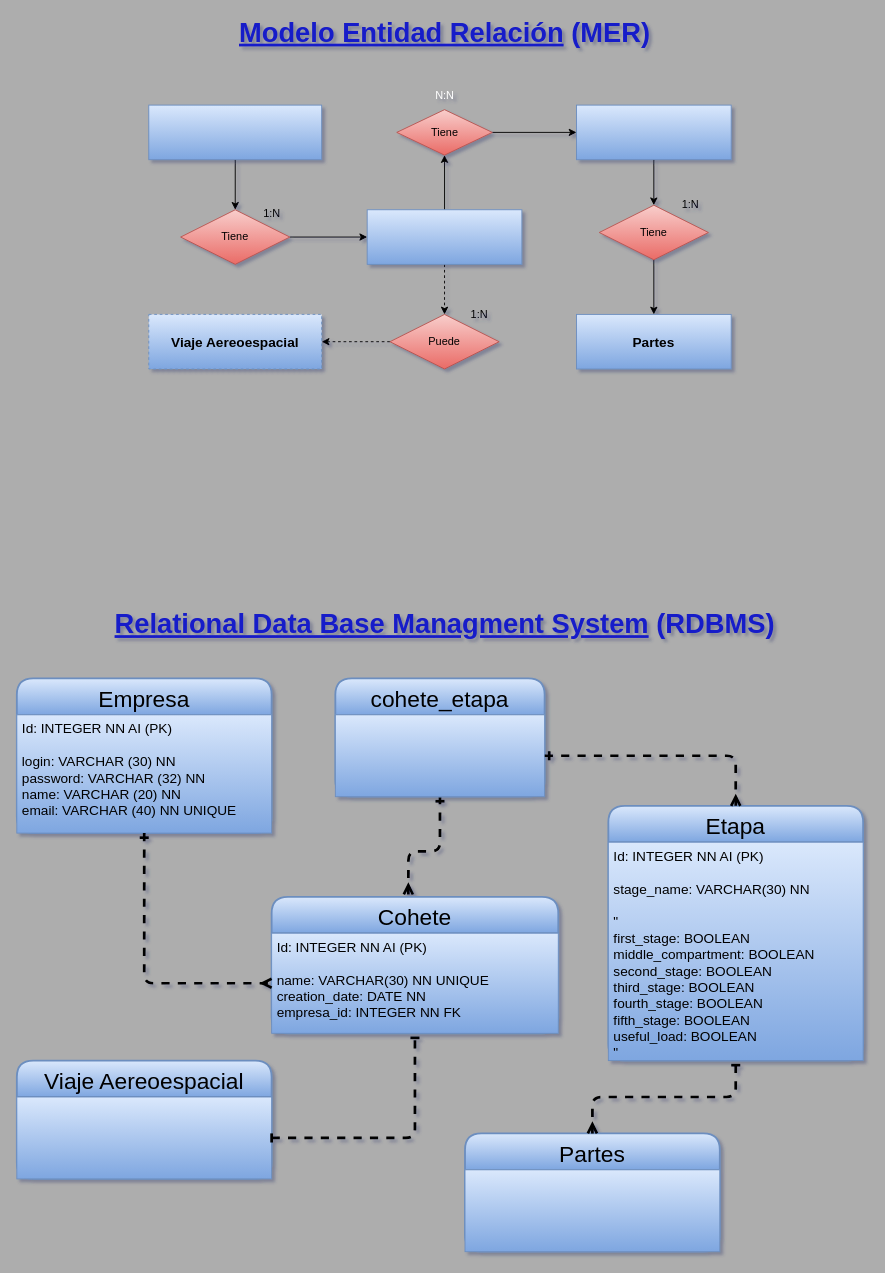
This 885x1273 diagram has some shape labels left out. The centre of each missing label's shape, as x and y in pixels:
"Cohetes" belongs at point (444, 236).
"Empresa aereoespacial" belongs at point (235, 132).
"Etapas" belongs at point (653, 132).
"Id: INTEGER NN AI (PK) cohete_id: INTEGER NN FK etapa_id: INTEGER NN FK" belongs at point (439, 755).
"Id: INTEGER NN AI (PK) number_trips: INTEGER NN rocket_id: INT NN FK" belongs at point (144, 1137).
"Id: INTEGER NN AI (PK) part_name: VARCHAR(30) NN UNIQUE etapa_id: INT NN FK" belongs at point (592, 1210).
